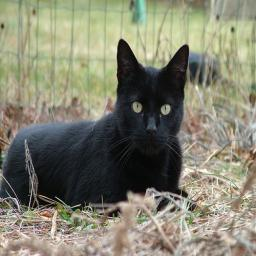catnose: (145, 125, 158, 139)
